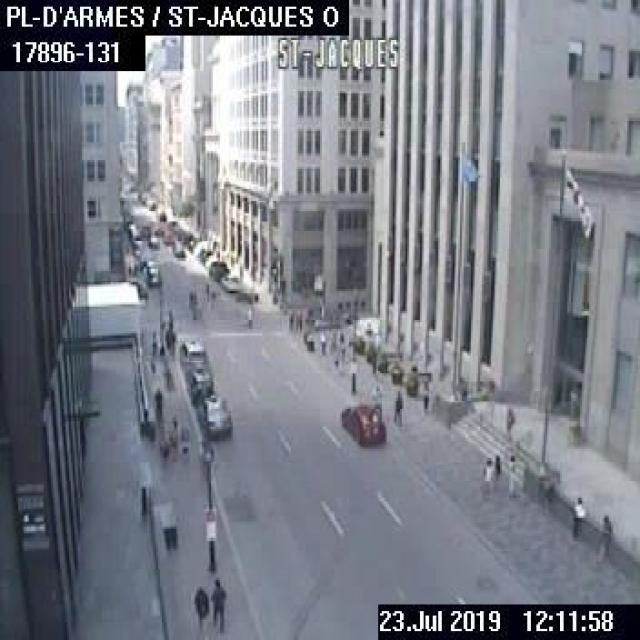pedestrian: (208, 576, 226, 631), (192, 583, 208, 629), (478, 451, 495, 493), (596, 511, 611, 553), (504, 452, 518, 497), (570, 494, 584, 536), (390, 388, 402, 426), (158, 427, 171, 460), (151, 384, 162, 420), (178, 421, 188, 458), (419, 381, 430, 412), (148, 358, 160, 384), (371, 384, 381, 415), (504, 405, 513, 438), (293, 308, 301, 332), (150, 330, 157, 356), (245, 304, 252, 328), (318, 331, 325, 353), (286, 307, 292, 330), (339, 343, 344, 369), (165, 309, 171, 330), (328, 329, 334, 349), (187, 289, 193, 308), (332, 349, 338, 368), (191, 298, 196, 318), (209, 290, 215, 306), (204, 282, 208, 300), (338, 331, 342, 348)
vehicle: (338, 400, 386, 444), (196, 393, 231, 433), (184, 364, 212, 404), (176, 338, 205, 368), (209, 258, 227, 279), (220, 273, 240, 291), (144, 265, 160, 285), (171, 240, 184, 256), (148, 234, 159, 248)
